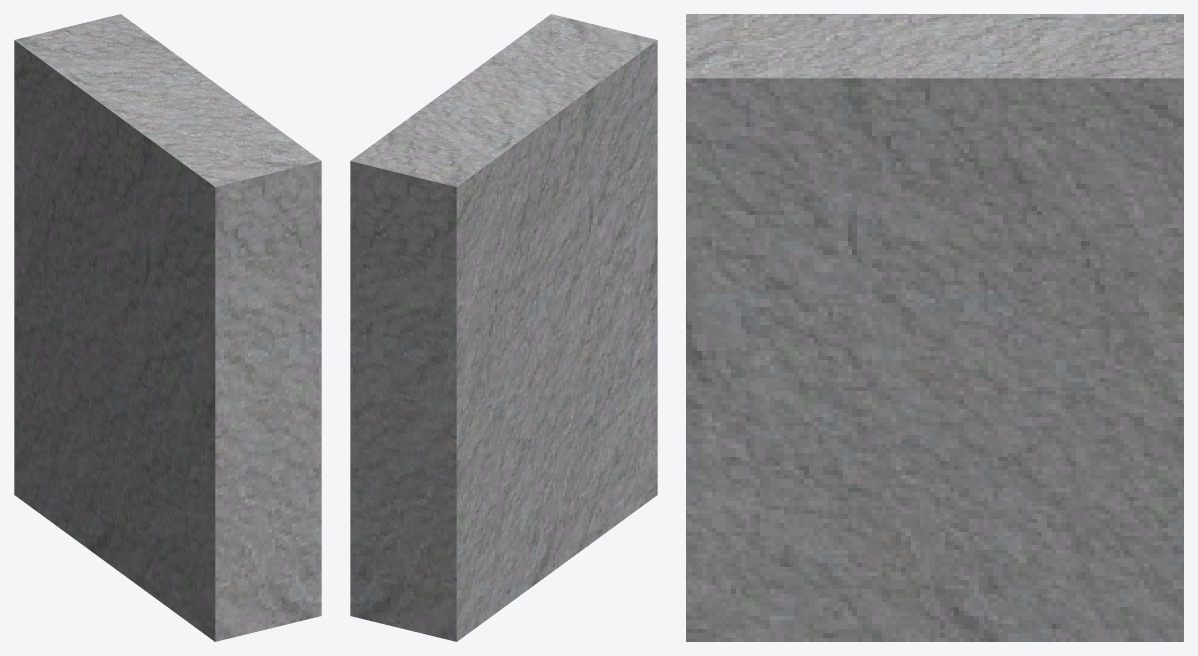
The model's file is GravSten1.glb.
3 renders of one model, left to right at view 1: azimuth 30°, elevation 25°; view 2: azimuth 150°, elevation 25°; view 3: azimuth 270°, elevation 25°, orthographic. The views are drawn at different scales.
Parts seen in each view (by area): view 1: GravSten; view 2: GravSten; view 3: GravSten.
Boxes of the visible parts, bbox=[...] form: GravSten: bbox=[14, 14, 321, 641]; GravSten: bbox=[350, 14, 657, 641]; GravSten: bbox=[686, 14, 1183, 641].
Bounding box in the file's own units: 0.4454 × 1.82 × 1.45.
1 material, 1 textured.
